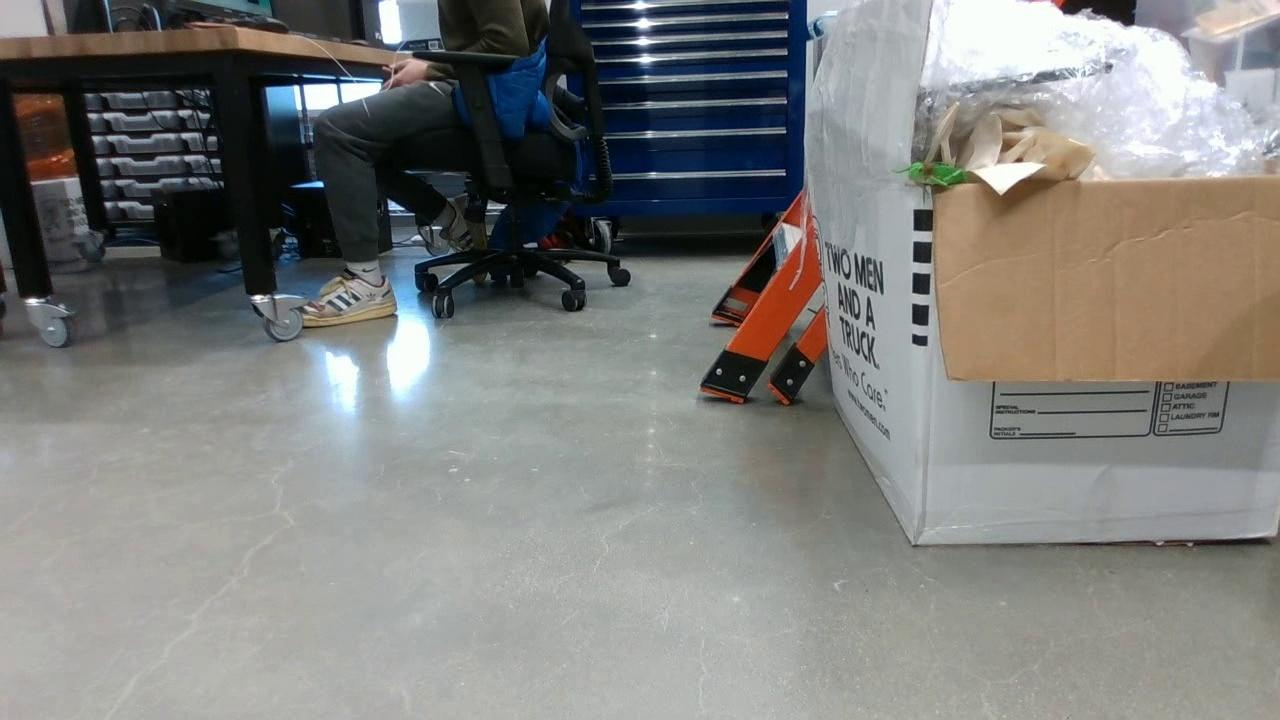grasshopper: (893, 161, 966, 188)
